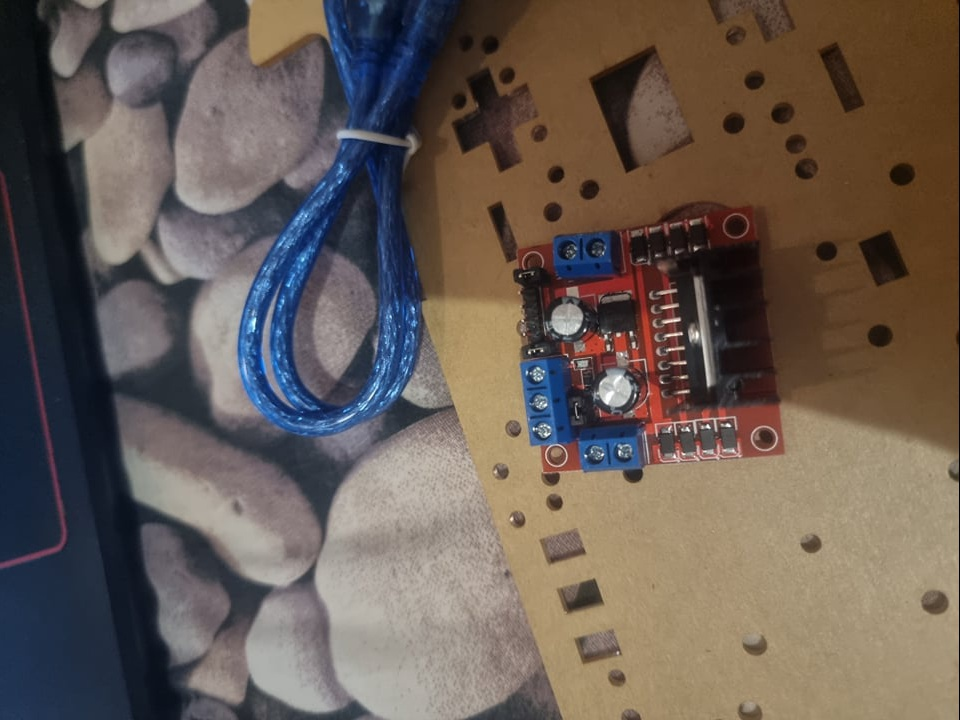MOTOR: (510, 206, 787, 475)
